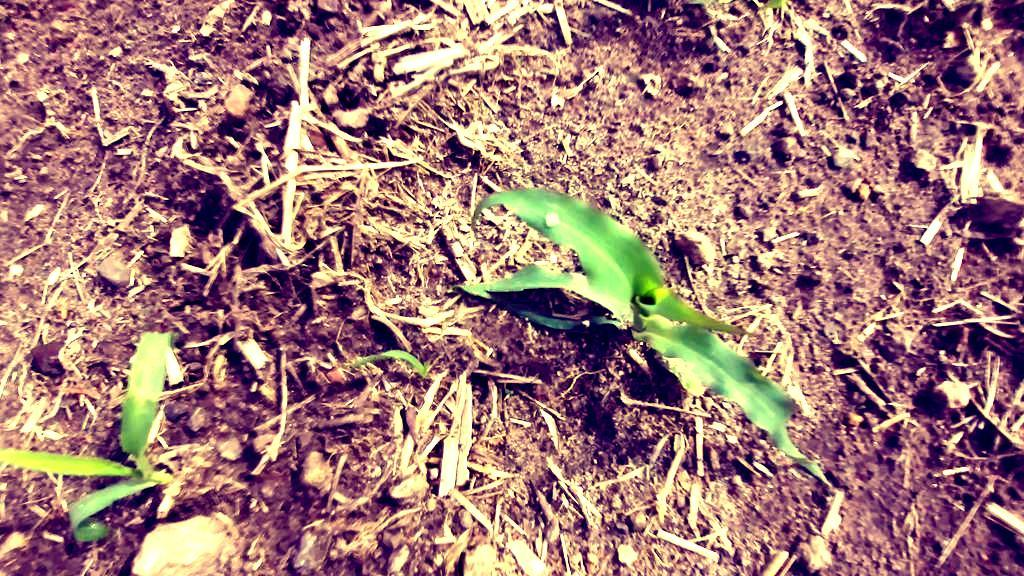BroWeed: (502, 386, 514, 396)
Maize: (436, 159, 895, 488), (0, 313, 247, 556), (343, 344, 432, 378)
